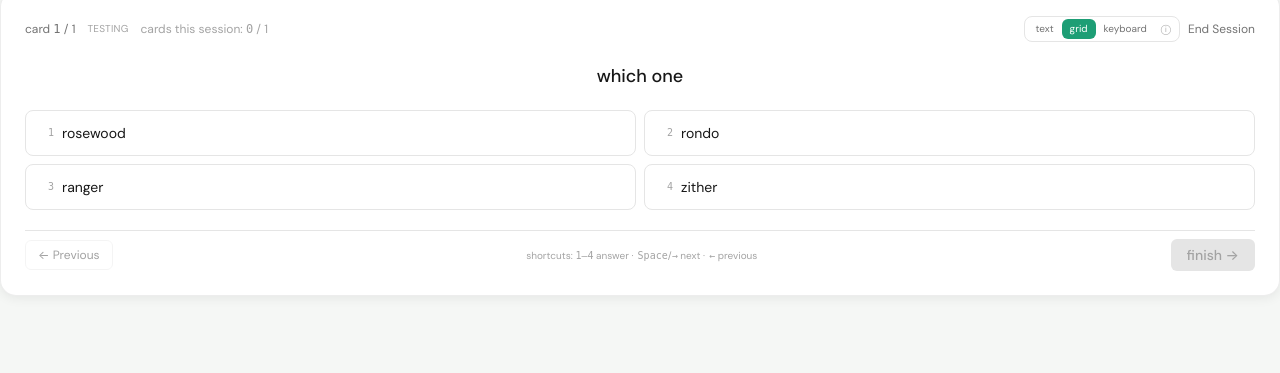
Test: the preview panel › gives one cell per mode, in the order the toggle offers them
What coordinates should you click on to do the following:
click the button with test id "visual-mode-preview-toggle"
I would click on:
 (1166, 29)
Its box is [1155,19,1177,39].
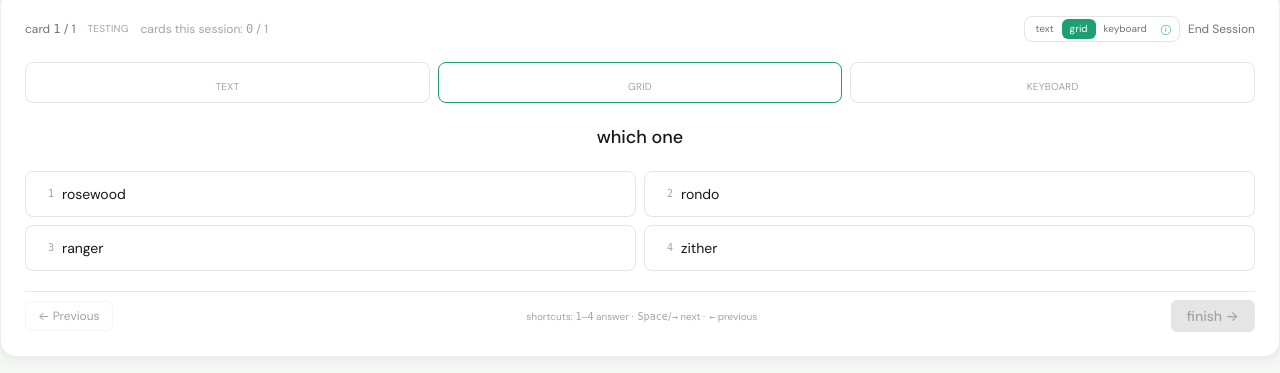
Expected: the element with test id "visual-mode-preview-cell" reads "text", [215,80,239,93]
Expected: the element with test id "visual-mode-preview-cell" reads "grid", [628,80,652,93]
Expected: the element with test id "visual-mode-preview-cell" reads "keyboard", [1027,80,1079,93]
